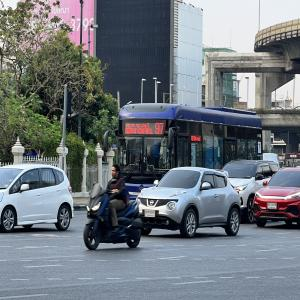Bus Line Number: (154, 120, 165, 137)
Destination Sign: (124, 122, 153, 136)
TSB-Bus: (114, 103, 263, 201)
